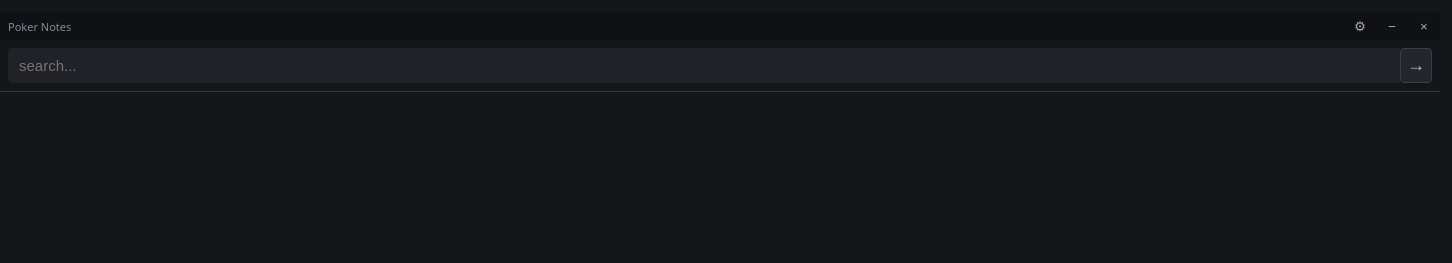
Test: opens a sole exact match immediately
Type "hayden" into the field named "Search players". click: (704, 66)
box: x1=8 y1=48 x2=1400 y2=83
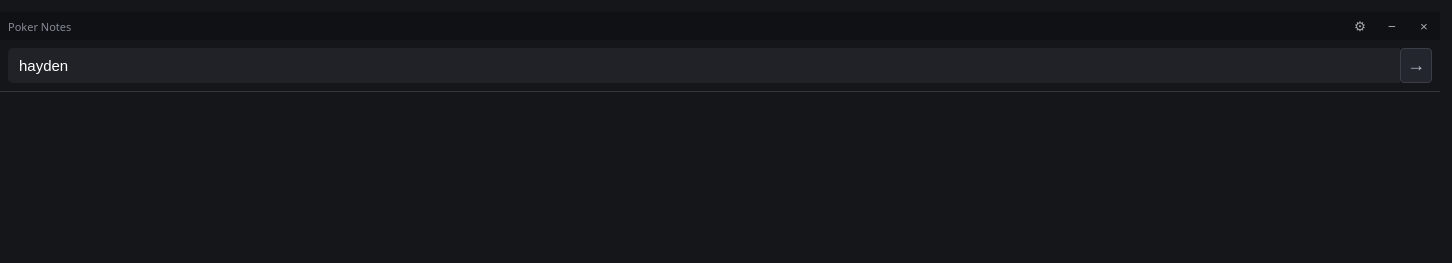
Press Enter in the field named "Search players", box x1=8 y1=48 x2=1400 y2=83
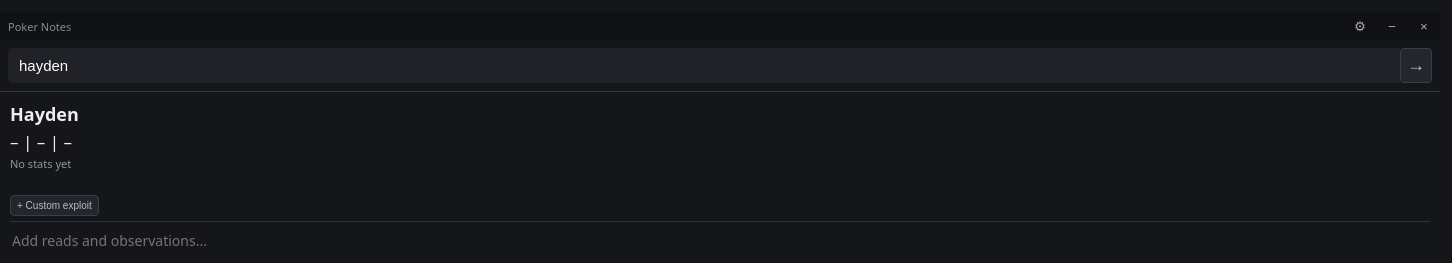
expect the heading "Hayden" is shown: met, box x1=10 y1=102 x2=79 y2=126
